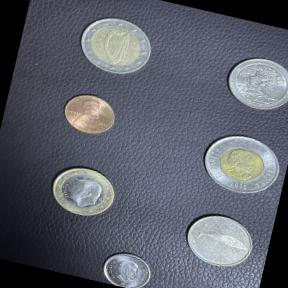coin: (189, 123, 288, 209), (66, 5, 162, 86), (39, 155, 125, 228), (176, 204, 260, 274), (218, 45, 288, 119), (54, 86, 124, 142), (94, 244, 157, 288)
